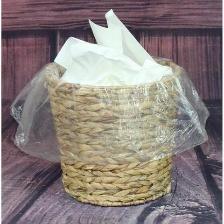tissue: (47, 3, 179, 93)
